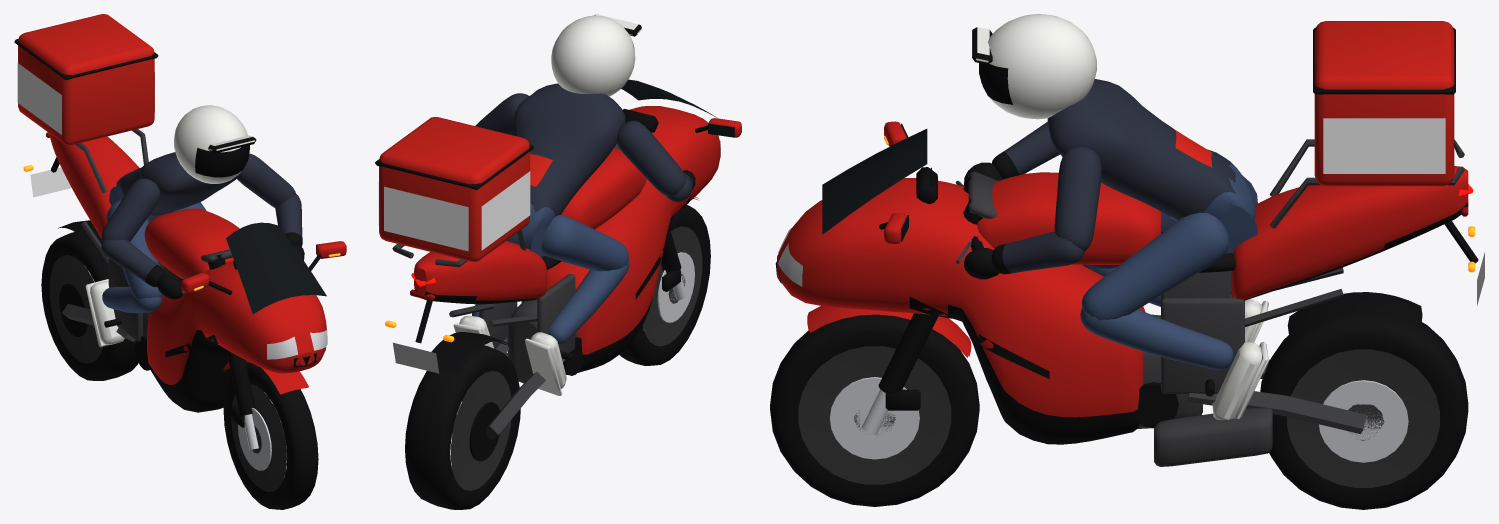
The model's file is bike_sport.glb.
The picture shows the model from 3 angles, left to right: view 1: azimuth 30°, elevation 25°; view 2: azimuth 150°, elevation 25°; view 3: azimuth 270°, elevation 25°; orthographic projection. The views are drawn at different scales.
Parts seen in each view (by area): view 1: sport_body, wheel_front, wheel_rear, rider_head, rider_body, steer_mesh, rider_shin_L, rider_uarm_L, rider_farm_L, rider_uarm_R, rider_farm_R, rider_thigh_L; view 2: sport_body, wheel_rear, rider_body, wheel_front, rider_head, rider_shin_L, rider_thigh_L, rider_uarm_L, steer_mesh, rider_uarm_R, rider_shin_R; view 3: sport_body, wheel_rear, wheel_front, rider_body, rider_head, rider_thigh_R, rider_shin_R, steer_mesh, rider_uarm_R, rider_farm_R, rider_farm_L, rider_shin_L.
Boxes of the visible parts, <box> form: sport_body: <box>14,14,346,412</box>; wheel_front: <box>223,362,318,509</box>; wheel_rear: <box>41,232,138,380</box>; rider_head: <box>174,105,256,183</box>; rider_body: <box>109,152,240,222</box>; steer_mesh: <box>179,249,308,449</box>; rider_shin_L: <box>85,279,162,347</box>; rider_uarm_L: <box>101,178,160,241</box>; rider_farm_L: <box>101,239,182,299</box>; rider_uarm_R: <box>237,153,295,208</box>; rider_farm_R: <box>275,194,304,260</box>; rider_thigh_L: <box>106,200,162,298</box>; sport_body: <box>375,79,741,439</box>; wheel_rear: <box>405,345,520,509</box>; rider_body: <box>506,83,625,256</box>; wheel_front: <box>619,205,710,365</box>; rider_head: <box>551,14,641,96</box>; rider_shin_L: <box>524,259,629,395</box>; rider_thigh_L: <box>542,215,628,271</box>; rider_uarm_L: <box>616,120,686,196</box>; steer_mesh: <box>614,144,698,299</box>; rider_uarm_R: <box>475,93,528,135</box>; rider_shin_R: <box>453,304,494,348</box>; sport_body: <box>775,21,1484,466</box>; wheel_rear: <box>1260,314,1468,509</box>; wheel_front: <box>770,314,979,506</box>; rider_body: <box>1047,79,1257,253</box>; rider_head: <box>972,14,1096,119</box>; rider_thigh_R: <box>1081,212,1229,320</box>; rider_shin_R: <box>1080,307,1268,420</box>; steer_mesh: <box>807,171,998,434</box>; rider_uarm_R: <box>1054,146,1101,250</box>; rider_farm_R: <box>964,231,1084,279</box>; rider_farm_L: <box>964,121,1059,185</box>; rider_shin_L: <box>1082,264,1268,342</box>.
Bounding box in the file's own units: 0.8979 × 1.53 × 2.05.
